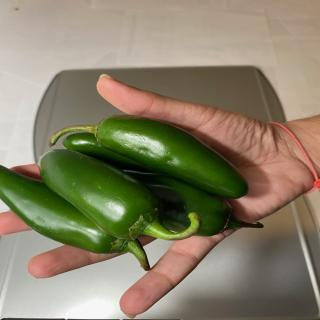Chilli: (1, 114, 263, 271), (48, 114, 250, 200)
